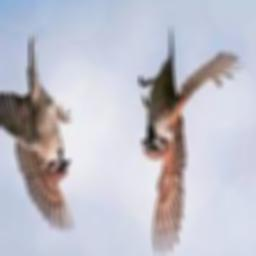Sparrow: (137, 29, 244, 255), (0, 34, 74, 232)
